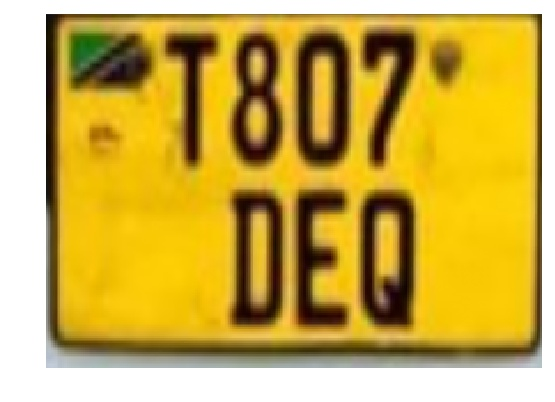T: (156, 25, 227, 178)
